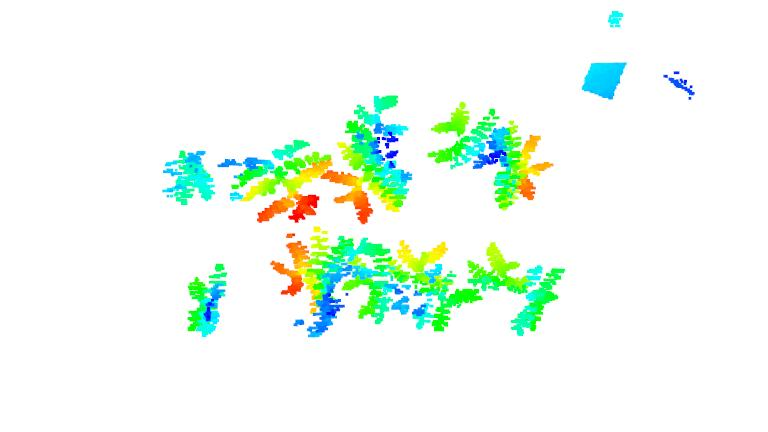chickpea: (430, 100, 557, 211), (321, 88, 418, 221), (360, 235, 482, 333), (269, 228, 352, 343), (220, 142, 328, 229), (469, 240, 561, 335), (178, 263, 231, 339), (161, 146, 219, 213)
